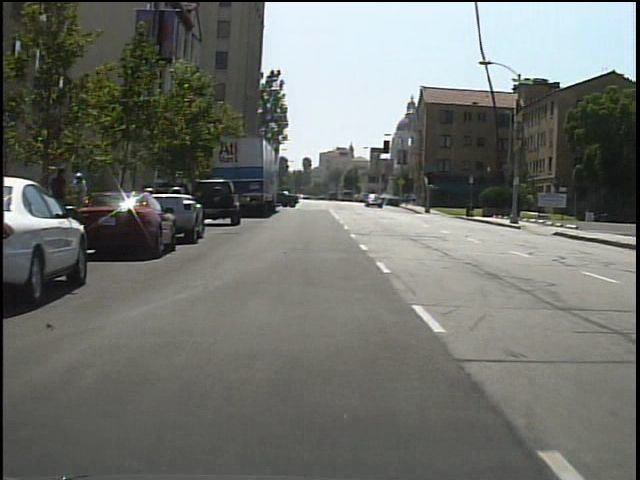person: (49, 165, 77, 234), (69, 170, 94, 225)
